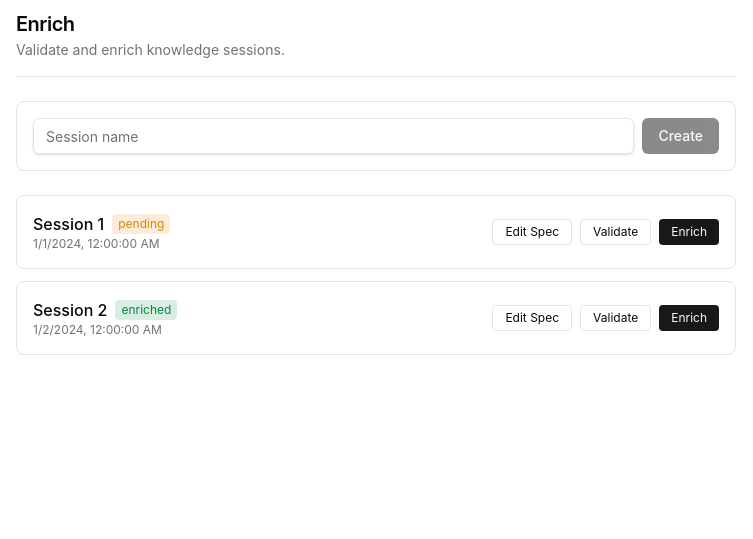
Scenario: EnrichView › renders spec textarea when Edit Spec is clicked
The image size is (753, 539).
Click the button "Edit Spec" in the row of "pending".
click(532, 232)  # box [492,219,572,245]
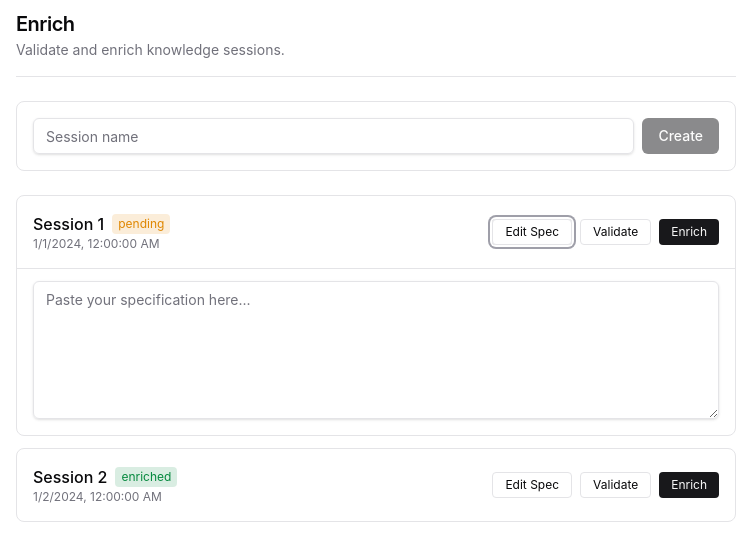
Expected: the text box with placeholder "Paste your specification here..." is shown, [33,281,719,419]
